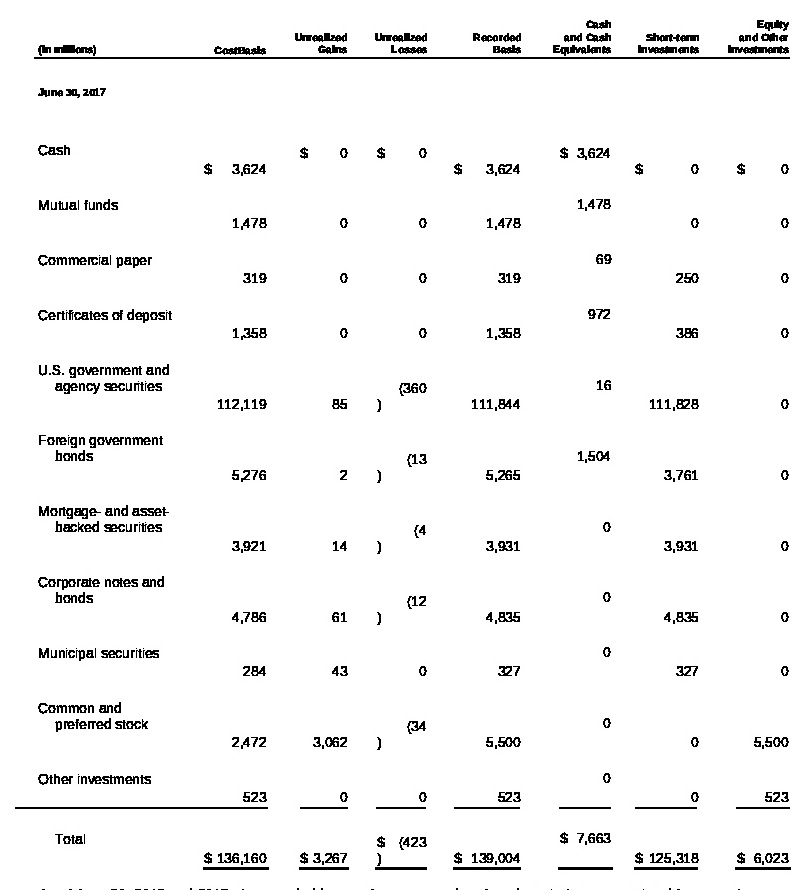table: (0, 0, 811, 890)
